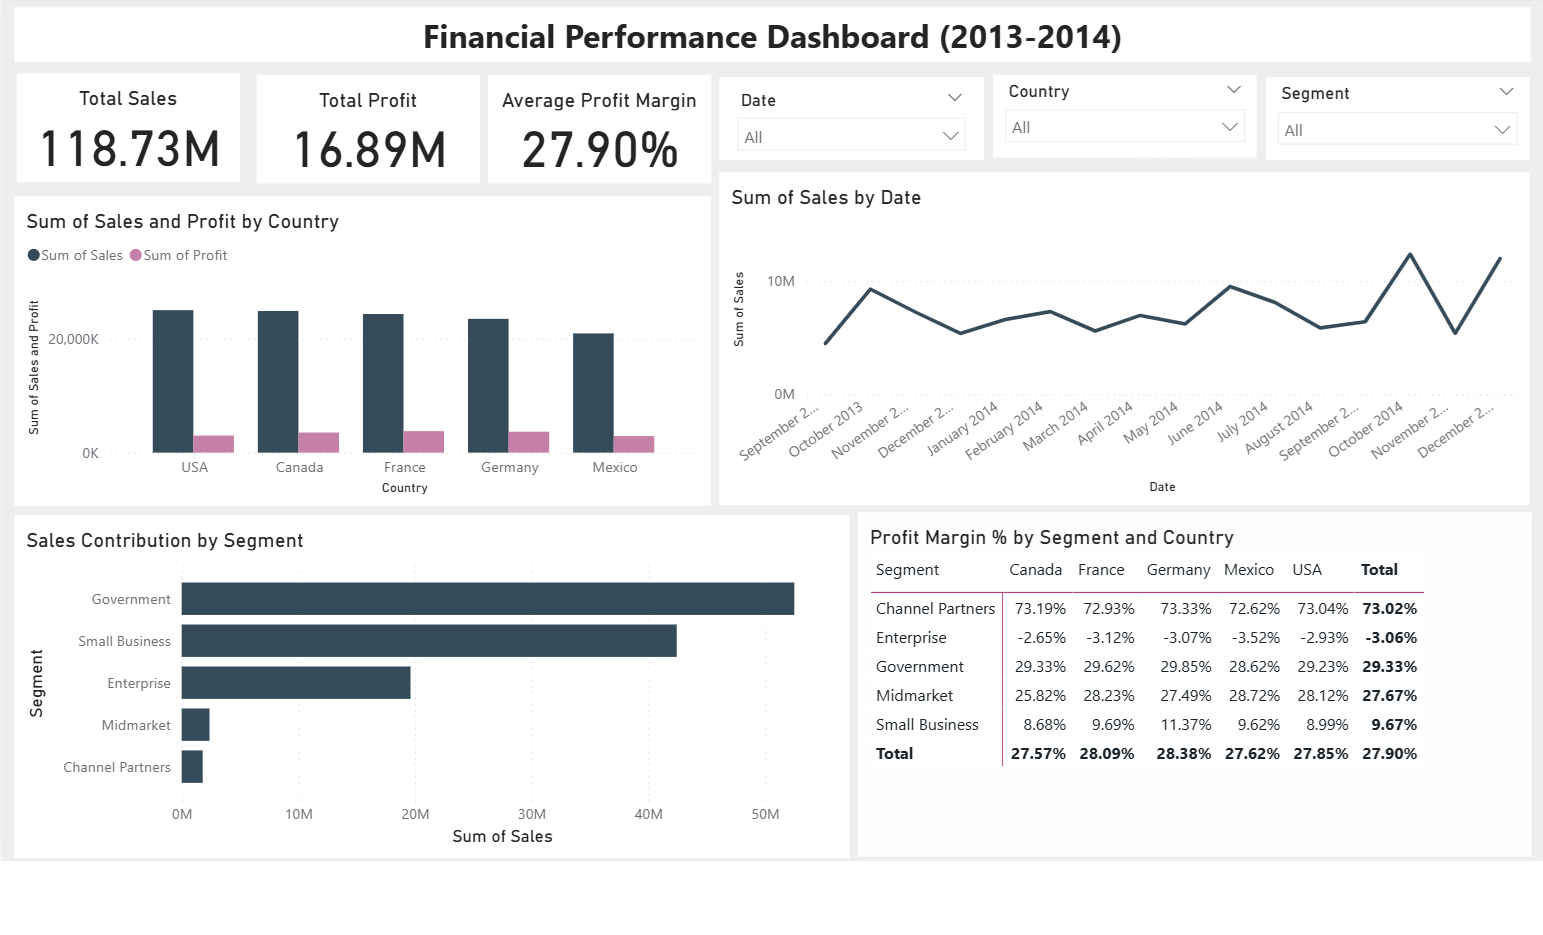

What the dashboard file says about the page in this screenshot:
{"tool":"powerbi","page":{"name":"Page 1","canvas":[1280,720],"ordinal":0},"visuals":[{"type":"lineChart","fields":{"Y":["Sum(Financials - Financials csv (1).Sales)"],"Category":["Financials - Financials csv (1).Date"]},"box":[595.5,146.8,673.8,277.2],"z":0},{"type":"clusteredColumnChart","title":"Sum of Sales and Profit by Country","fields":{"Y":["Sum(Financials - Financials csv (1).Sales)","Sum(Financials - Financials csv (1).Profit)"],"Category":["Financials - Financials csv (1).Country"]},"box":[9.6,166,579.1,258],"z":1000},{"type":"barChart","title":"Sales Contribution by Segment","fields":{"Category":["Financials - Financials csv (1).Segment"],"Y":["Sum(Financials - Financials csv (1).Sales)"]},"box":[9.6,430.9,694.3,285.4],"z":2000},{"type":"textbox","box":[9.6,9.6,1261.1,45.3],"z":3000},{"type":"card","title":"Total Sales","fields":{"Values":["Sum(Financials - Financials csv (1).Sales)"]},"box":[11,64.5,185.2,90.6],"z":4000},{"type":"card","title":"Total Profit","fields":{"Values":["Sum(Financials - Financials csv (1).Profit)"]},"box":[211.3,65.9,185.2,90.6],"z":5000},{"type":"card","title":"Average Profit Margin","fields":{"Values":["Avg(Financials - Financials csv (1).Profit Margin %)"]},"box":[403.4,65.9,185.2,90.6],"z":6000},{"type":"slicer","fields":{"Values":["Financials - Financials csv (1).Date"]},"box":[595.5,67.2,220,68.6],"z":7000},{"type":"slicer","fields":{"Values":["Financials - Financials csv (1).Country"]},"box":[823.3,65.9,219.6,68.6],"z":8000},{"type":"pivotTable","title":"Profit Margin % by Segment and Country","fields":{"Rows":["Financials - Financials csv (1).Segment"],"Values":["Avg(Financials - Financials csv (1).Profit Margin %)"],"Columns":["Financials - Financials csv (1).Country"]},"box":[710.8,429.5,559.9,286.8],"z":9000},{"type":"slicer","fields":{"Values":["Financials - Financials csv (1).Segment"]},"box":[1049.7,67.2,219.6,68.6],"z":10000}]}

Visuals, with their boxes on the page's 1280x720 design canvas (x1, y1, x2, y2). These are canvas units, not pixel positions in the 1543x935 screenshot, which may show the page scaled, cropped or inside an application window:
lineChart - Sum(Financials - Financials csv (1).Sales) x Financials - Financials csv (1).Date: (left=596, top=147, right=1269, bottom=424)
"Sum of Sales and Profit by Country" clusteredColumnChart: (left=10, top=166, right=589, bottom=424)
"Sales Contribution by Segment" barChart: (left=10, top=431, right=704, bottom=716)
textbox: (left=10, top=10, right=1271, bottom=55)
"Total Sales" card: (left=11, top=64, right=196, bottom=155)
"Total Profit" card: (left=211, top=66, right=396, bottom=156)
"Average Profit Margin" card: (left=403, top=66, right=589, bottom=156)
slicer - Financials - Financials csv (1).Date: (left=596, top=67, right=816, bottom=136)
slicer - Financials - Financials csv (1).Country: (left=823, top=66, right=1043, bottom=134)
"Profit Margin % by Segment and Country" pivotTable: (left=711, top=430, right=1271, bottom=716)
slicer - Financials - Financials csv (1).Segment: (left=1050, top=67, right=1269, bottom=136)
